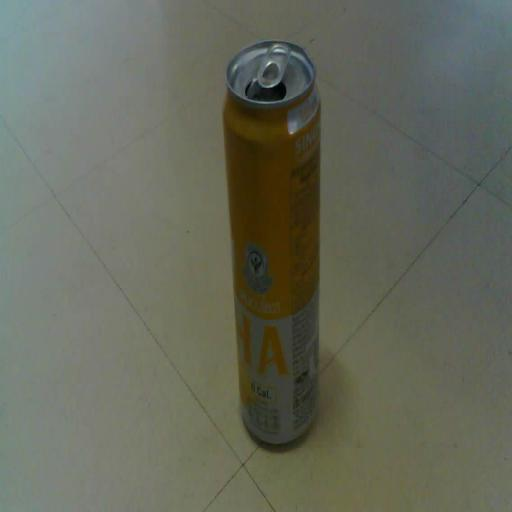canned: (218, 29, 332, 464)
